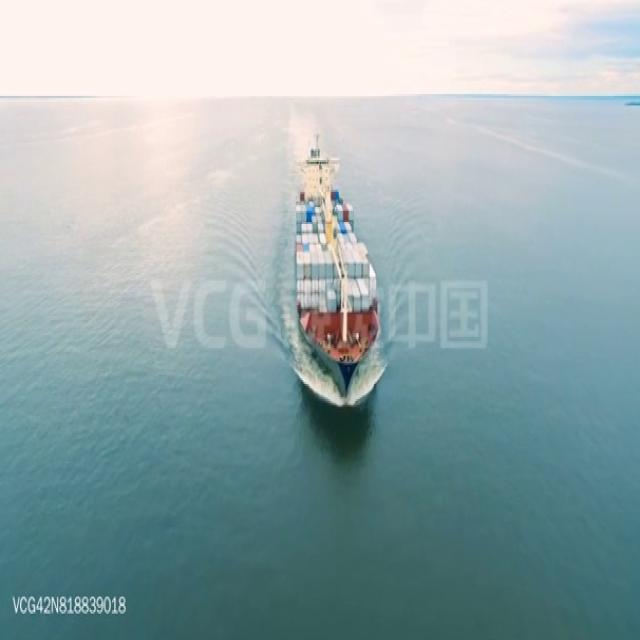cargoship: (291, 129, 379, 387)
